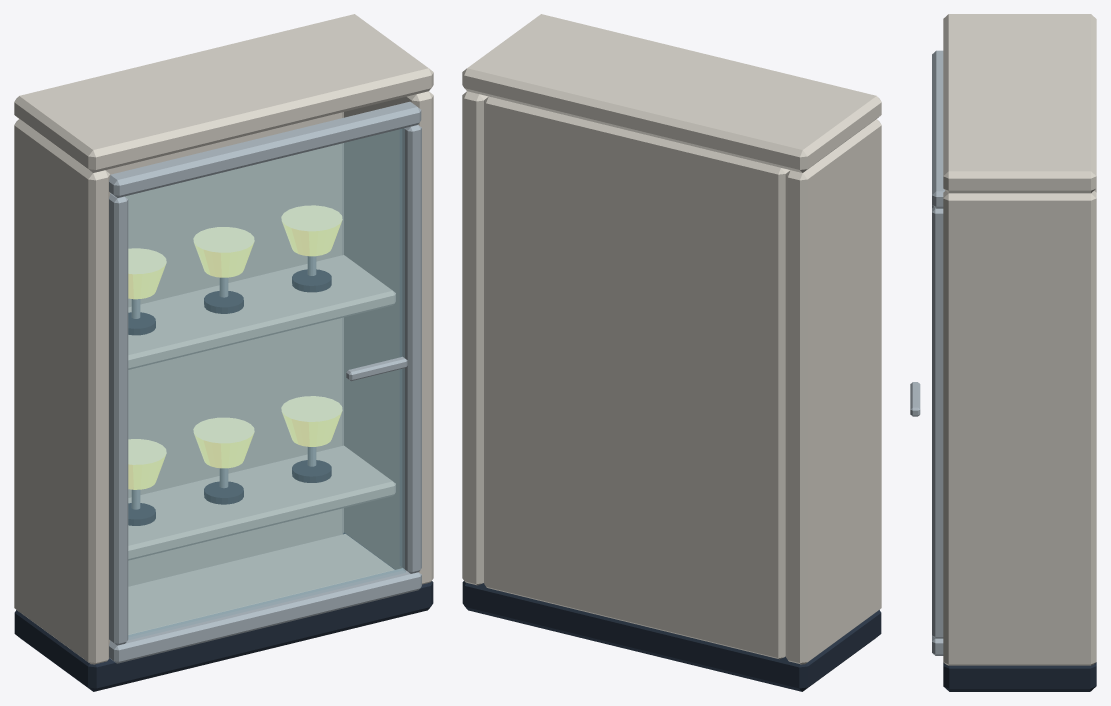
Rendered from campus_11.glb.
The picture shows the model from 3 angles, left to right: view 1: azimuth 30°, elevation 25°; view 2: azimuth 150°, elevation 25°; view 3: azimuth 270°, elevation 25°; orthographic projection. The views are drawn at different scales.
Parts seen in each view (by area): view 1: InsetPanel, Side (×2), Back, Top, Shelf (×2), GlazedSideRail (×2), TrophyCup (×6), Bottom, Base, DoorPanel, GlazedTopRail, TrophyFoot (×4) (+1 smaller); view 2: Back, Side (×2), Top, Base; view 3: Side, Top, GlazedSideRail, Base, GlazedTopRail, Handle.
Boxes of the visible parts, <box> form: InsetPanel: <box>125,128,405,639</box>; Side (×2): <box>14,91,433,664</box>; Back: <box>105,112,343,586</box>; Top: <box>14,14,433,172</box>; Shelf (×2): <box>128,255,395,560</box>; GlazedSideRail (×2): <box>109,125,421,645</box>; TrophyCup (×6): <box>128,205,342,489</box>; Bottom: <box>128,534,394,634</box>; Base: <box>14,532,433,691</box>; DoorPanel: <box>109,568,421,663</box>; GlazedTopRail: <box>109,101,421,197</box>; TrophyFoot (×4): <box>204,269,331,504</box>; Back: <box>484,96,790,659</box>; Side (×2): <box>462,91,881,664</box>; Top: <box>462,14,881,172</box>; Base: <box>462,581,881,691</box>; Side: <box>943,190,1096,665</box>; Top: <box>943,14,1096,193</box>; GlazedSideRail: <box>932,207,943,638</box>; Base: <box>943,662,1096,691</box>; GlazedTopRail: <box>932,50,945,208</box>; Handle: <box>910,382,920,416</box>.
Size of the model in its own units: 1.1 by 1.65 by 0.534.
